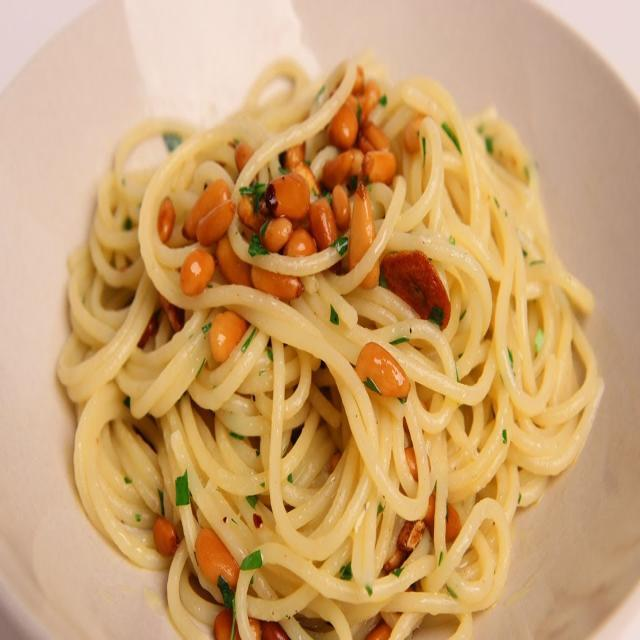Oil pasta: (81, 82, 626, 640)
